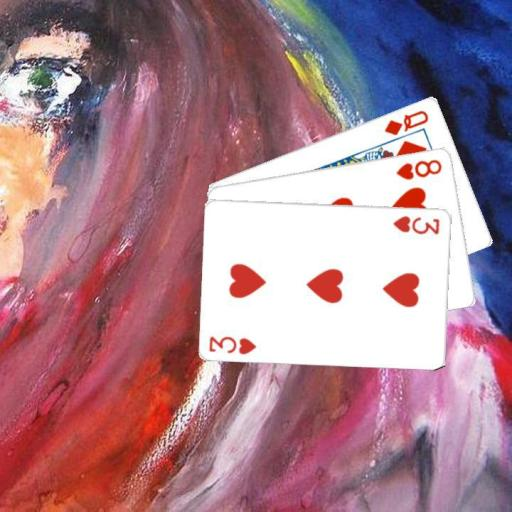3H: (206, 333, 258, 356), (390, 213, 441, 236)
8H: (393, 156, 444, 181)
QD: (381, 107, 430, 137)
